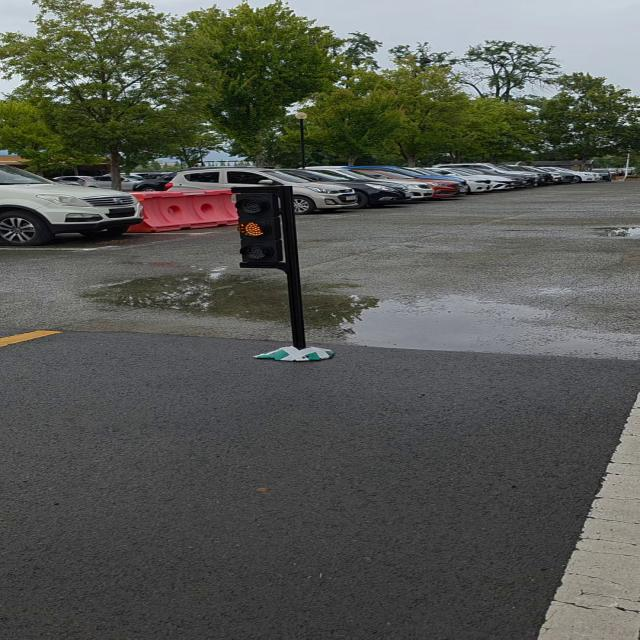yellow: (234, 191, 292, 270)
